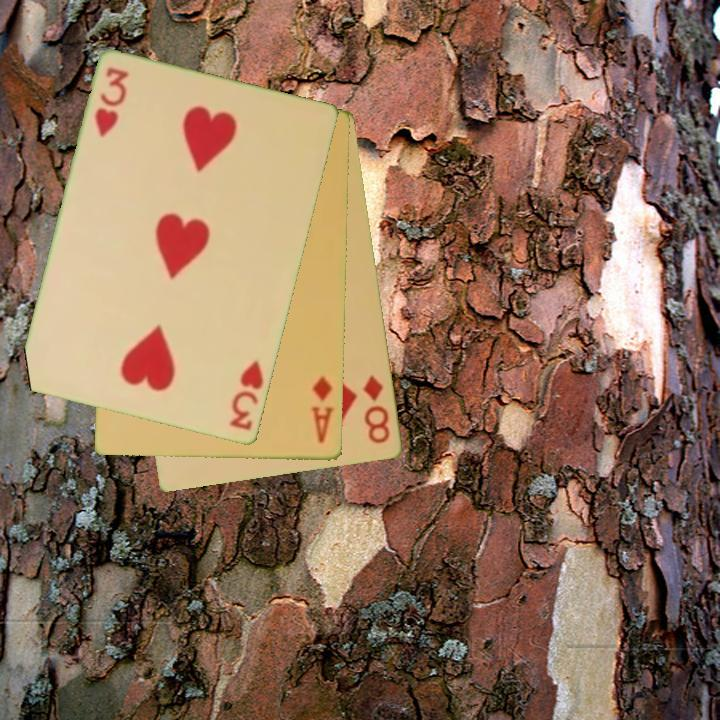3h: (226, 357, 267, 434), (91, 64, 132, 141)
8d: (359, 372, 393, 447)
Ad: (308, 373, 338, 446)
